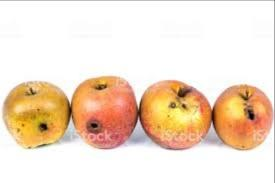rotten apple: (138, 80, 211, 152), (69, 75, 137, 150), (1, 78, 68, 149), (212, 80, 274, 153)
